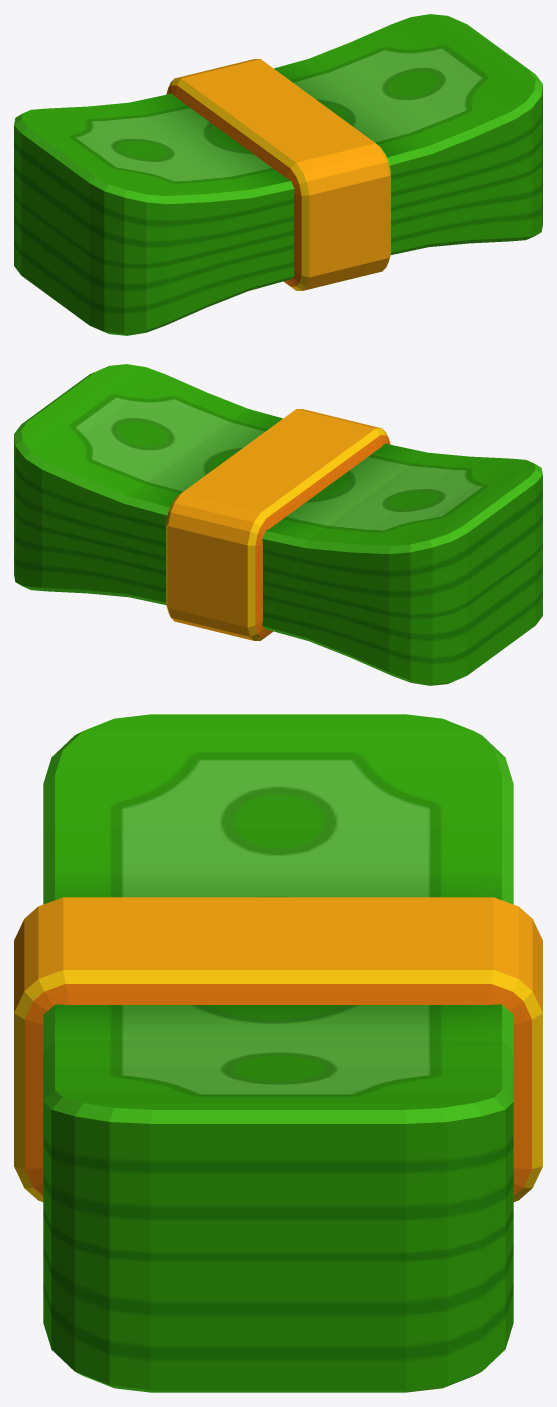
Rendered from Cash.fbx.
3 renders of one model, top to bottom at view 1: azimuth 30°, elevation 25°; view 2: azimuth 150°, elevation 25°; view 3: azimuth 270°, elevation 25°, orthographic. The views are drawn at different scales.
Parts seen in each view (by area): view 1: Cash_Bundle; view 2: Cash_Bundle; view 3: Cash_Bundle.
Part boxes in pixels (x1,y1,x2,y2): Cash_Bundle: [14, 14, 542, 335]; Cash_Bundle: [14, 364, 542, 685]; Cash_Bundle: [14, 714, 542, 1392].
Bounding box in the file's own units: 0.9344 × 0.3028 × 0.5131.
Materials: 1 (1 with a texture image).
